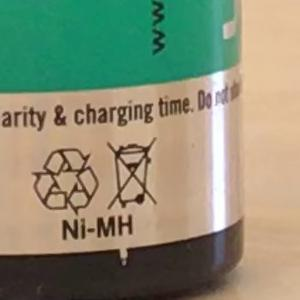keyword: (52, 204, 143, 250)
